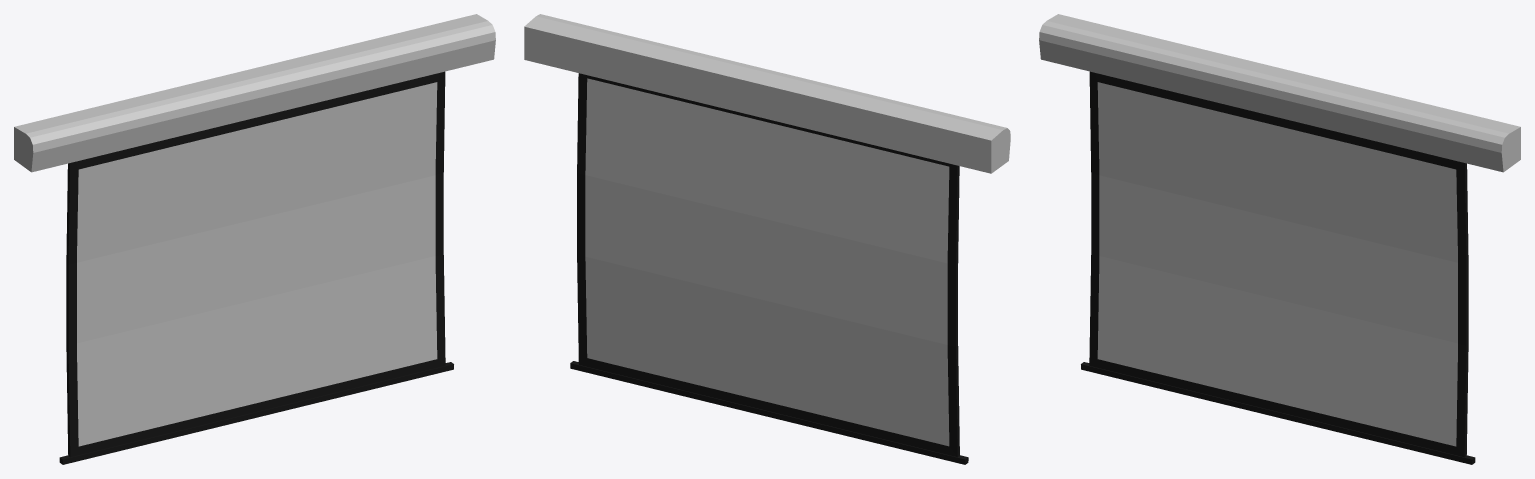
Rendered from Int_TechScreen01_1.fbx.
3 views of the same model, side by side, from view 1: azimuth 30°, elevation 25°; view 2: azimuth 150°, elevation 25°; view 3: azimuth 330°, elevation 25° (orthographic).
Parts seen in each view (by area): view 1: Int_TechScreen01_1; view 2: Int_TechScreen01_1; view 3: Int_TechScreen01_1.
Boxes of the visible parts, <box> form: Int_TechScreen01_1: <box>14,14,495,464</box>; Int_TechScreen01_1: <box>524,14,1010,464</box>; Int_TechScreen01_1: <box>1039,14,1520,464</box>.
Size of what is drawn, in the model's own units: 308 by 22.21 by 216.
